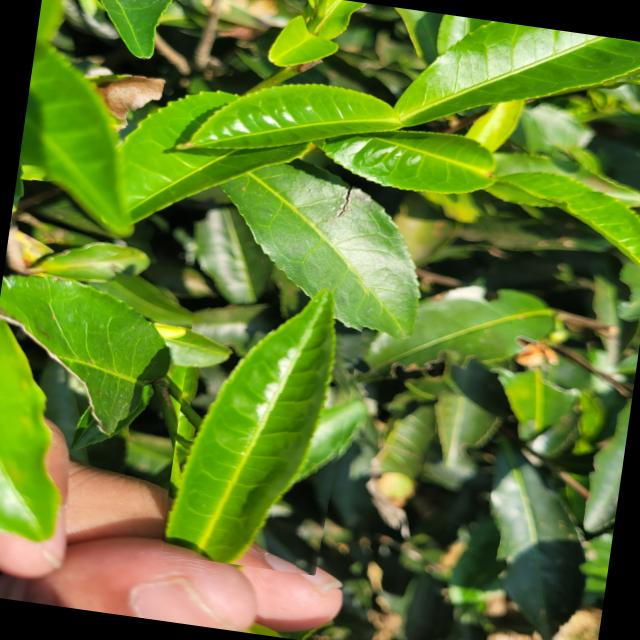Catagory A(1-2 days): (160, 252, 373, 578)
